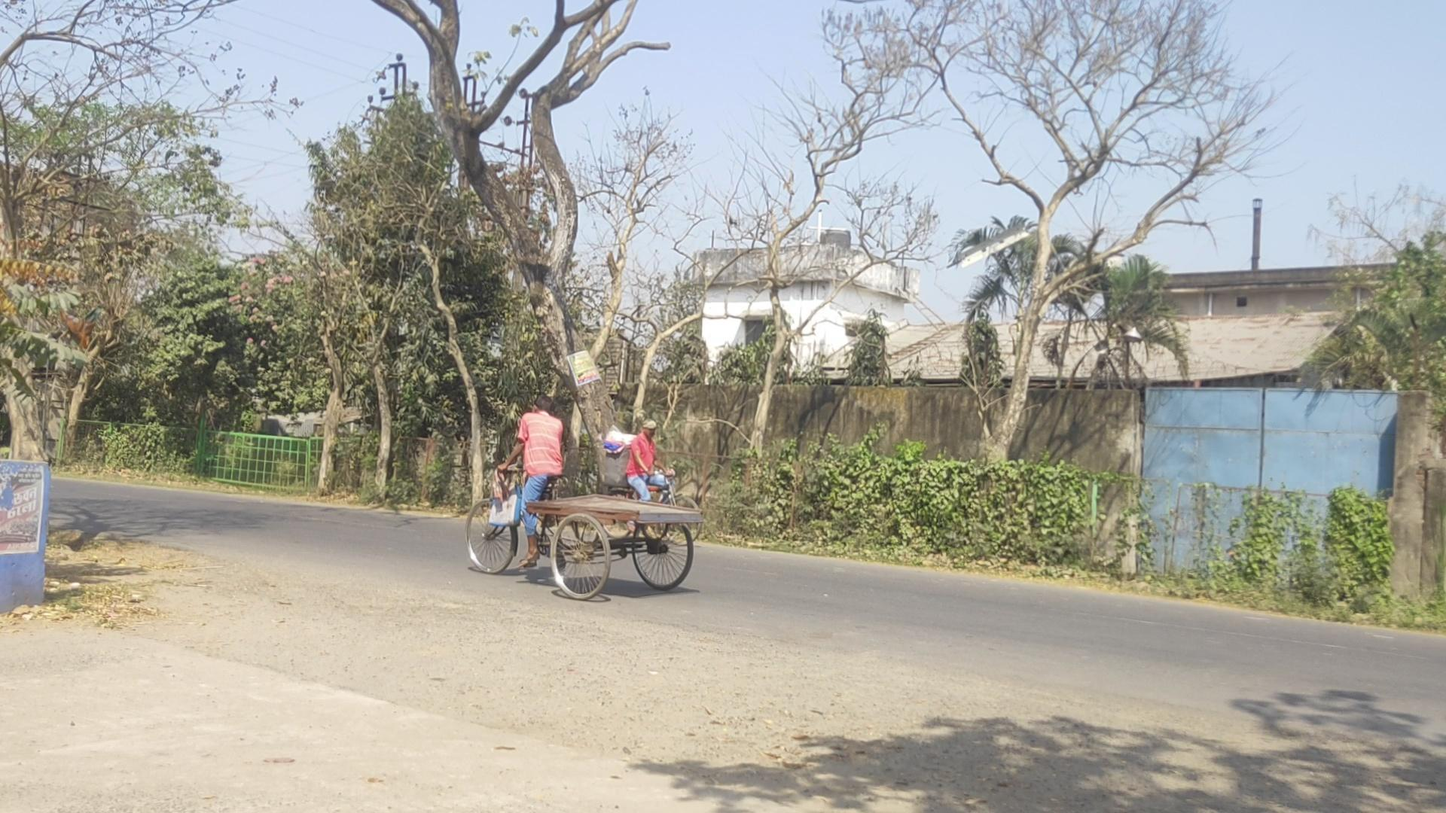bike: (601, 419, 703, 546)
